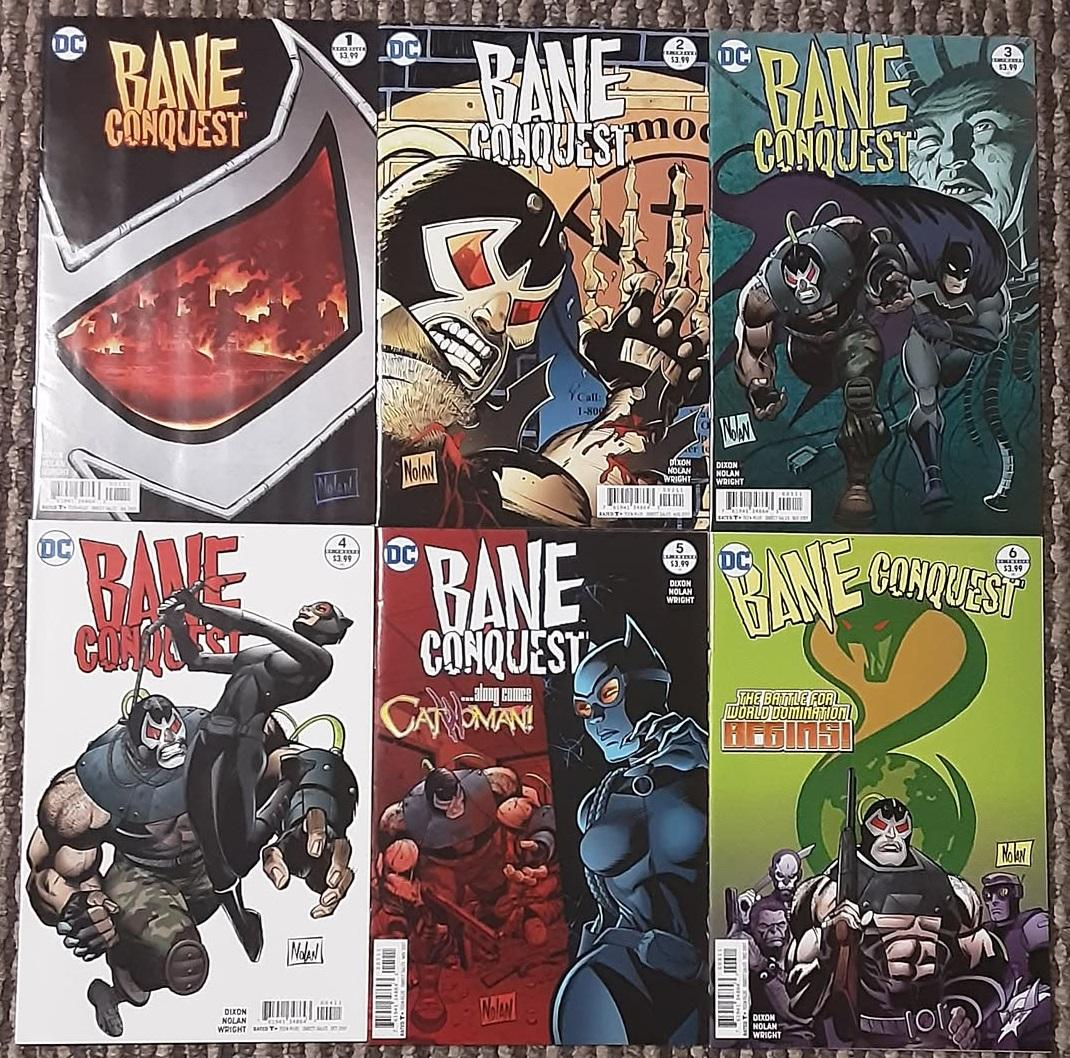comic: (15, 520, 377, 1050), (33, 16, 382, 523), (711, 533, 1051, 1050), (370, 530, 708, 1045), (709, 29, 1040, 537), (378, 26, 709, 528)
